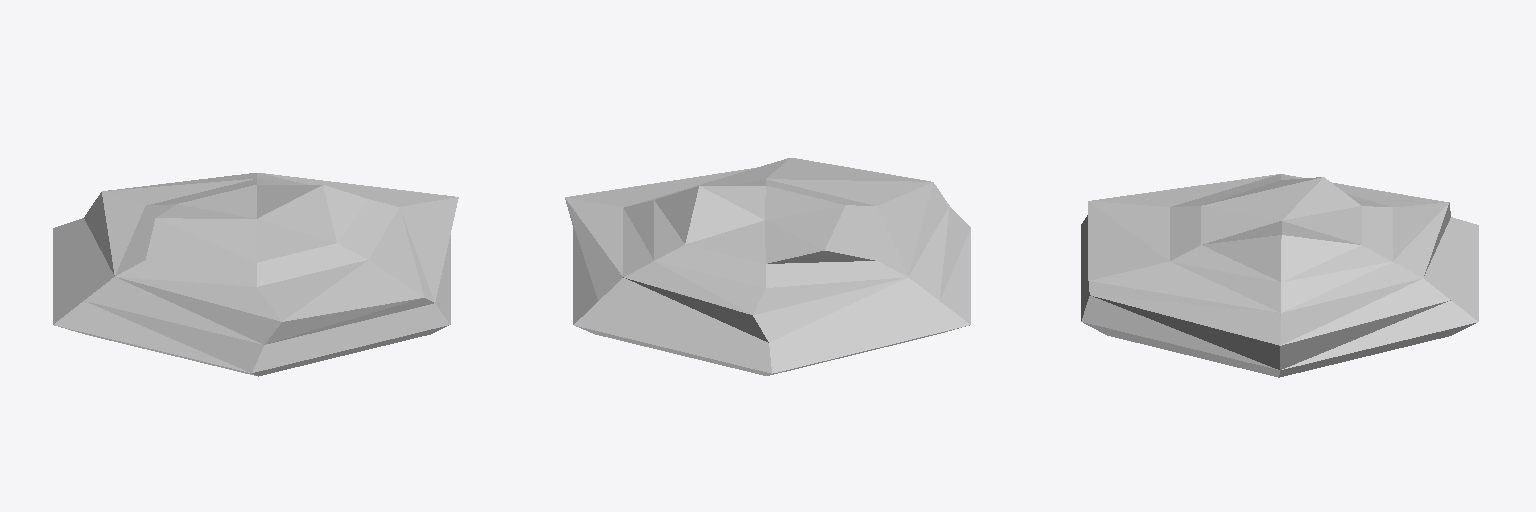
File: HoneyTowerProjectile5.obj
3 views of the same model, side by side, from view 1: azimuth 30°, elevation 25°; view 2: azimuth 150°, elevation 25°; view 3: azimuth 270°, elevation 25° (orthographic).
Visible parts, largest first — view 1: HoneyProjectile; view 2: HoneyProjectile; view 3: HoneyProjectile.
Part boxes in pixels (x1,y1,x2,y2): HoneyProjectile: (53, 173, 458, 376); HoneyProjectile: (565, 158, 970, 375); HoneyProjectile: (1081, 174, 1478, 377).
Bounding box in the file's own units: 2.58 × 0.6581 × 2.19.